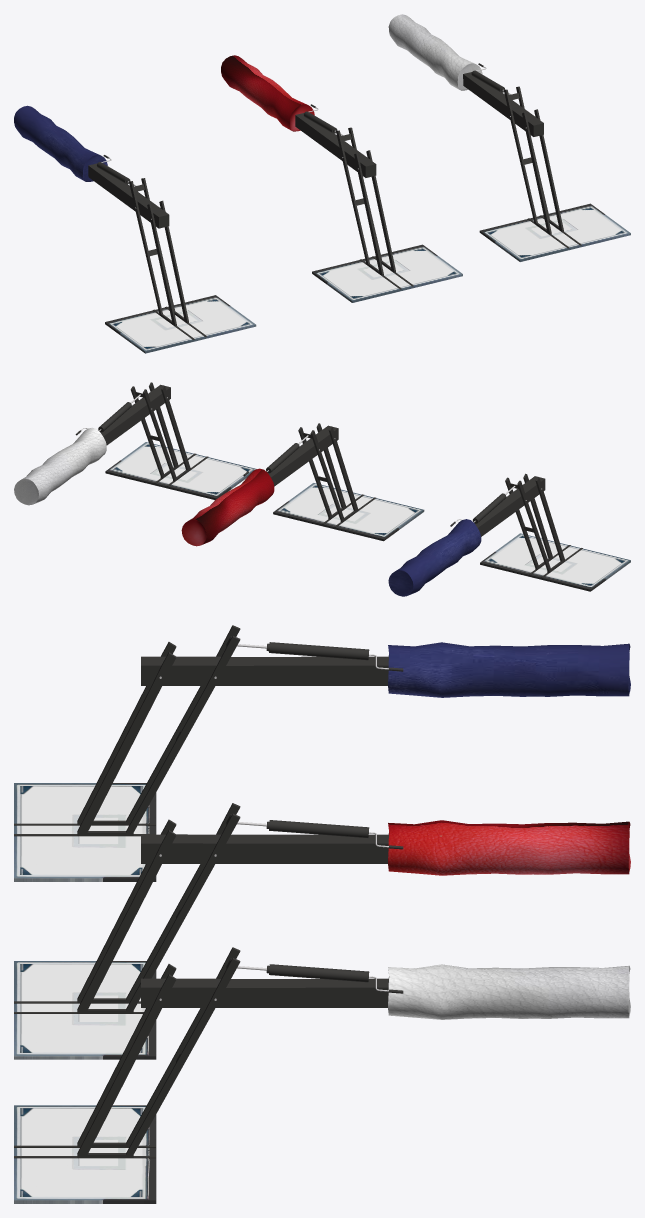
File: Basketball Goal.fbx
3 views of the same model, one above another, from view 1: azimuth 30°, elevation 25°; view 2: azimuth 150°, elevation 25°; view 3: azimuth 270°, elevation 25° (orthographic). The views are drawn at different scales.
Visible parts, largest first — view 1: Cylinder08 (×3), Cylinder04 (×3), Cylinder12 (×3); view 2: Cylinder04 (×3), Cylinder08 (×3), Cylinder12 (×3); view 3: Cylinder12 (×3), Cylinder04 (×3), Cylinder08 (×3).
Boxes of the visible parts, box(x1,y1,x2,y2) form: Cylinder08 (×3): box(221, 55, 462, 302); Cylinder04 (×3): box(14, 105, 256, 353); Cylinder12 (×3): box(388, 14, 630, 261); Cylinder04 (×3): box(388, 473, 630, 596); Cylinder08 (×3): box(181, 423, 424, 546); Cylinder12 (×3): box(14, 382, 256, 505); Cylinder12 (×3): box(14, 947, 630, 1203); Cylinder04 (×3): box(14, 625, 630, 881); Cylinder08 (×3): box(14, 803, 630, 1059).
Size of the model in its own units: 465 by 105 by 291.
